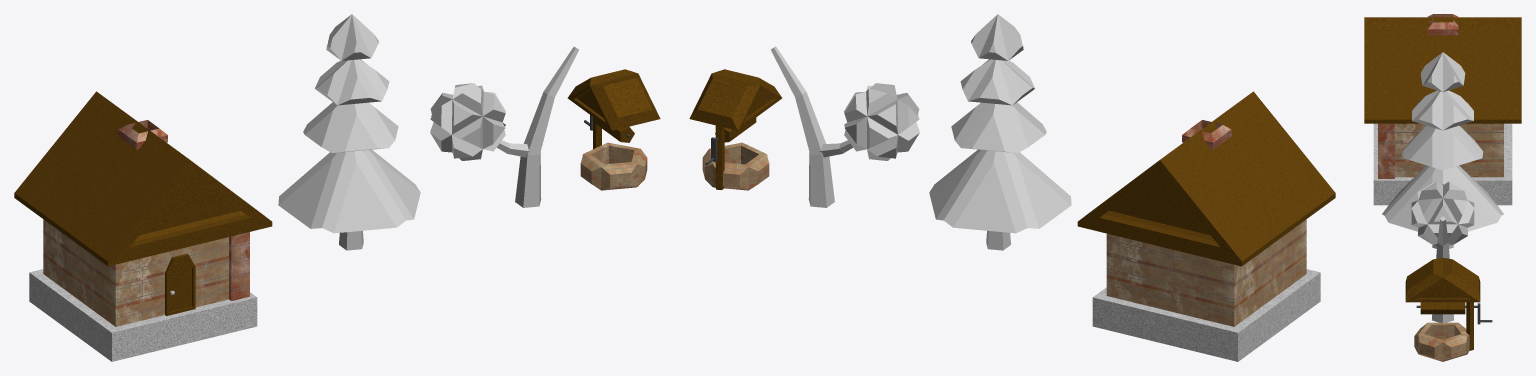
The model's file is Map_Constructor.fbx.
3 views of the same model, side by side, from view 1: azimuth 30°, elevation 25°; view 2: azimuth 150°, elevation 25°; view 3: azimuth 270°, elevation 25° (orthographic). The views are drawn at different scales.
Visible parts, largest first — view 1: Krisha.1, Hvoye, Wall, Fund, List, Krisha, Tree1, Colodec, Door, Pill, Krisha.2, Dimar; view 2: Krisha.1, Hvoye, Wall, Fund, List, Krisha, Tree1, Colodec, Krisha.2, Dimar, Stoyka; view 3: Krisha.1, Hvoye, List, Wall, Krisha, Fund, Colodec, Pill, Tree1, Cilinder, Dimar, Krisha.2 (+2 smaller).
Part boxes in pixels (x1,y1,x2,y2): Krisha.1: [14, 91, 272, 266]; Hvoye: [278, 14, 420, 233]; Wall: [43, 219, 228, 326]; Fund: [29, 269, 257, 361]; List: [430, 83, 505, 160]; Krisha: [567, 69, 660, 130]; Tree1: [515, 46, 578, 207]; Colodec: [580, 142, 647, 190]; Door: [165, 253, 195, 315]; Pill: [229, 232, 249, 300]; Krisha.2: [14, 193, 245, 265]; Dimar: [118, 120, 167, 149]; Krisha.1: [1077, 91, 1335, 266]; Hvoye: [929, 14, 1071, 233]; Wall: [1106, 219, 1306, 326]; Fund: [1092, 269, 1320, 361]; List: [844, 83, 919, 160]; Krisha: [689, 69, 782, 130]; Tree1: [771, 46, 834, 207]; Colodec: [702, 142, 769, 190]; Krisha.2: [1104, 193, 1335, 246]; Dimar: [1182, 120, 1231, 149]; Stoyka: [715, 125, 724, 190]; Krisha.1: [1364, 17, 1521, 123]; Hvoye: [1382, 52, 1503, 231]; List: [1411, 181, 1474, 246]; Wall: [1395, 123, 1503, 177]; Krisha: [1405, 258, 1480, 302]; Fund: [1373, 123, 1512, 205]; Colodec: [1414, 322, 1469, 361]; Pill: [1378, 123, 1394, 178]; Tree1: [1432, 216, 1453, 322]; Cilinder: [1420, 302, 1465, 314]; Dimar: [1427, 14, 1458, 35]; Krisha.2: [1364, 119, 1521, 123].
Size of the model in its own units: 2350 by 962 by 656.
